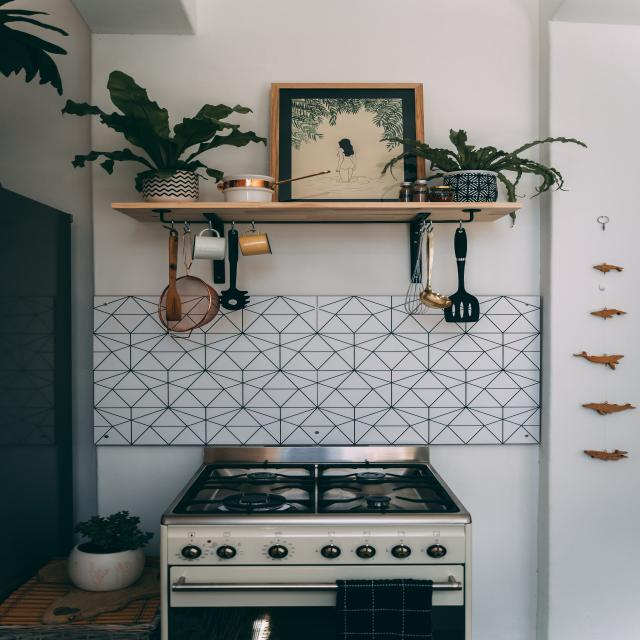a glass: (168, 231, 228, 281), (236, 228, 288, 280)
oven: (150, 463, 510, 640)
